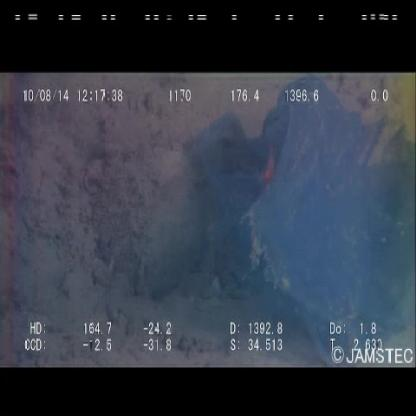Rác: (178, 74, 416, 355)
